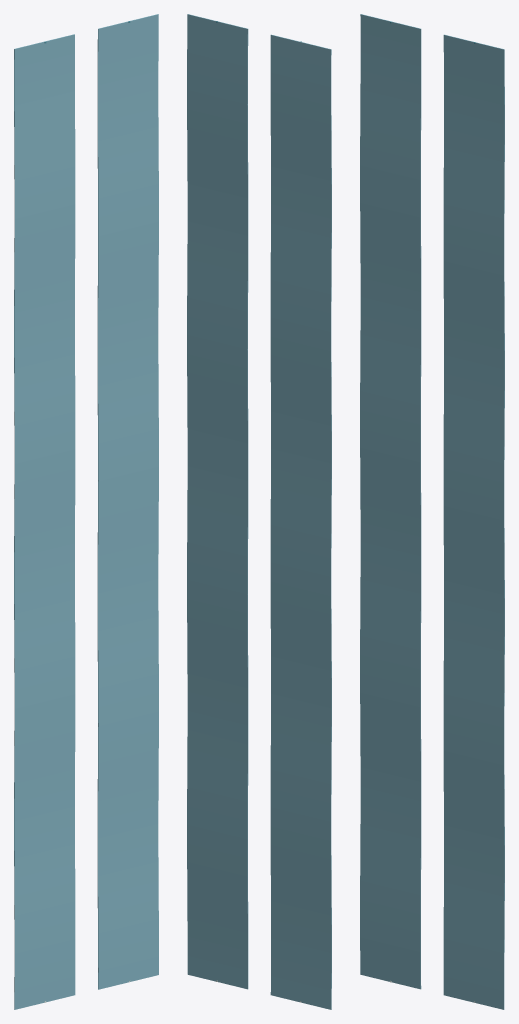
3 views of the same model, side by side, from view 1: azimuth 30°, elevation 25°; view 2: azimuth 150°, elevation 25°; view 3: azimuth 330°, elevation 25° (orthographic).
Parts seen in each view (by area): view 1: 瀑宽流量与分帘形态族; view 2: 瀑宽流量与分帘形态族; view 3: 瀑宽流量与分帘形态族.
Boxes of the visible parts, x1,y1,x2,y2 form: 瀑宽流量与分帘形态族: (14,14,158,1009); 瀑宽流量与分帘形态族: (187,14,331,1009); 瀑宽流量与分帘形态族: (360,14,504,1009).
Size of the model in its own units: 24 by 153 by 0.28.
